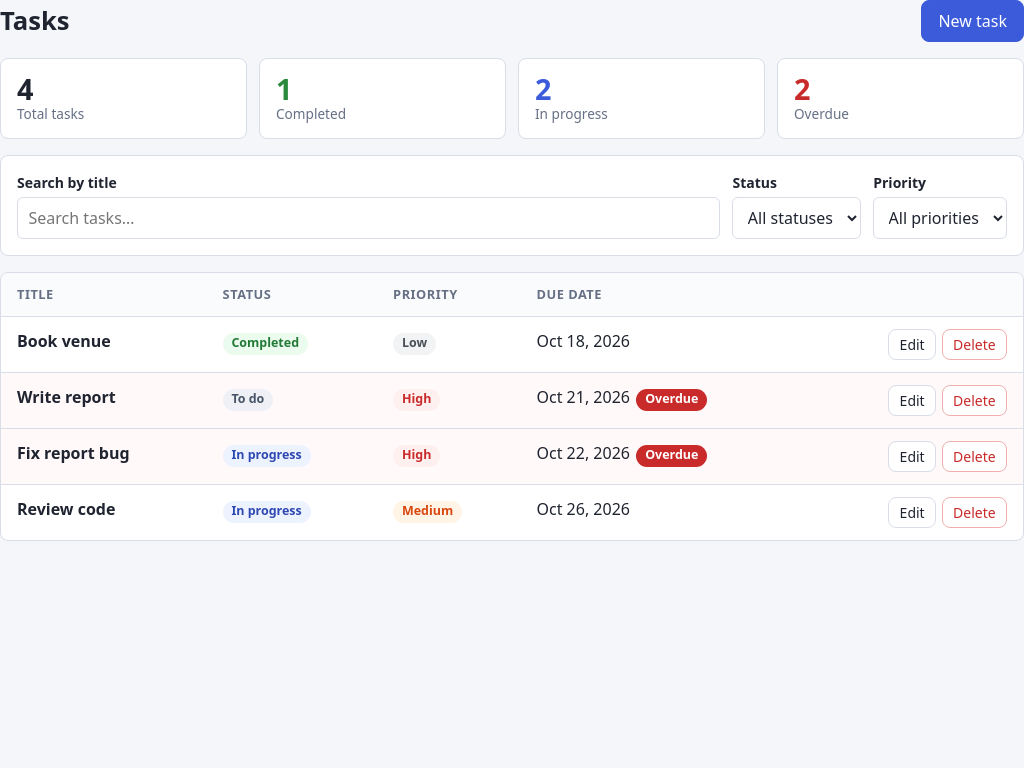
TaskListPageComponent › deleting › deletes the task and updates the list and summary after confirming
Click the button "Delete" in the row of "Write report": (974, 401) [942,385,1007,416]
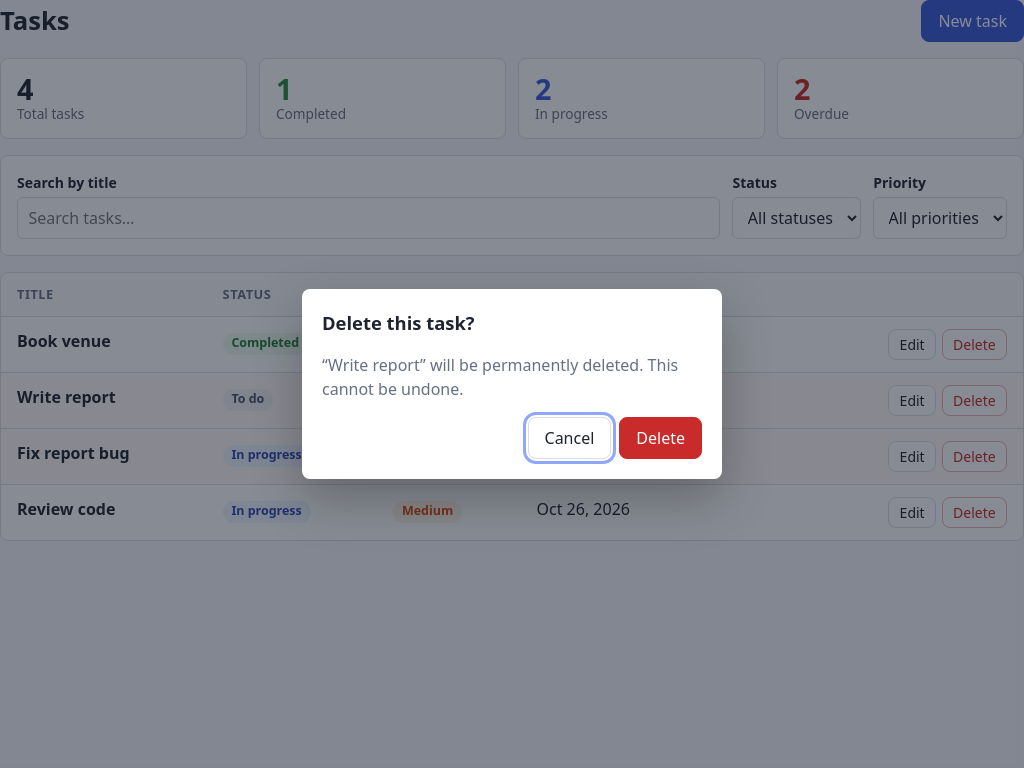
Click the button with class "btn--danger": (661, 438) [619,417,702,459]
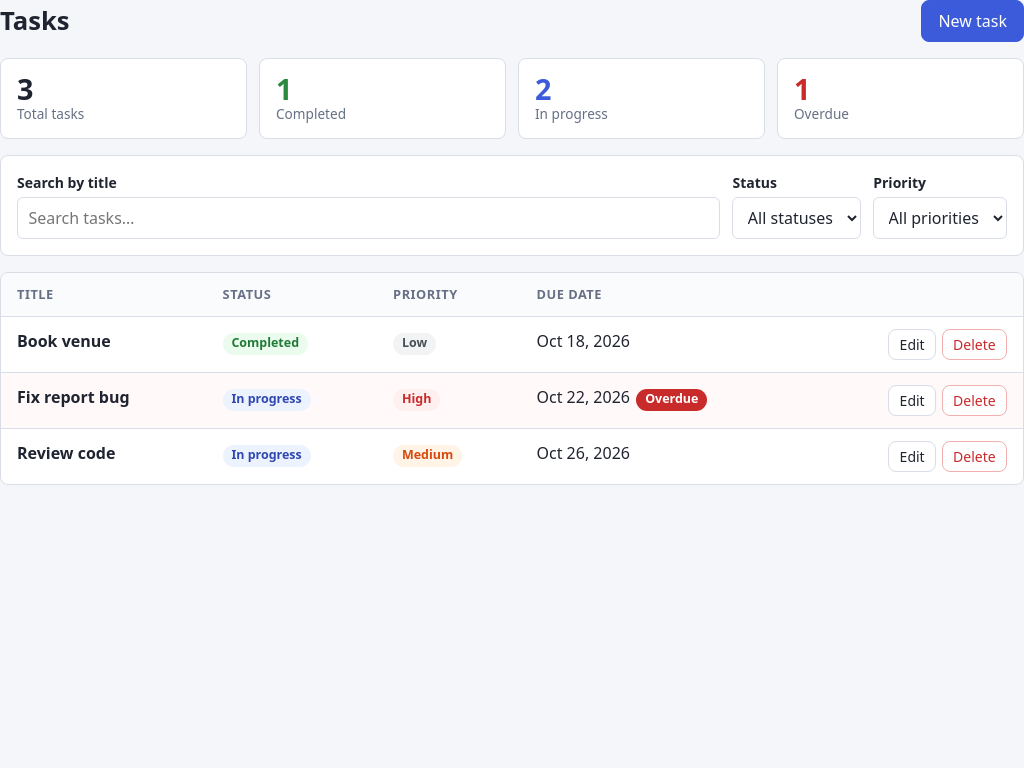
Now the text "Write report" is gone
